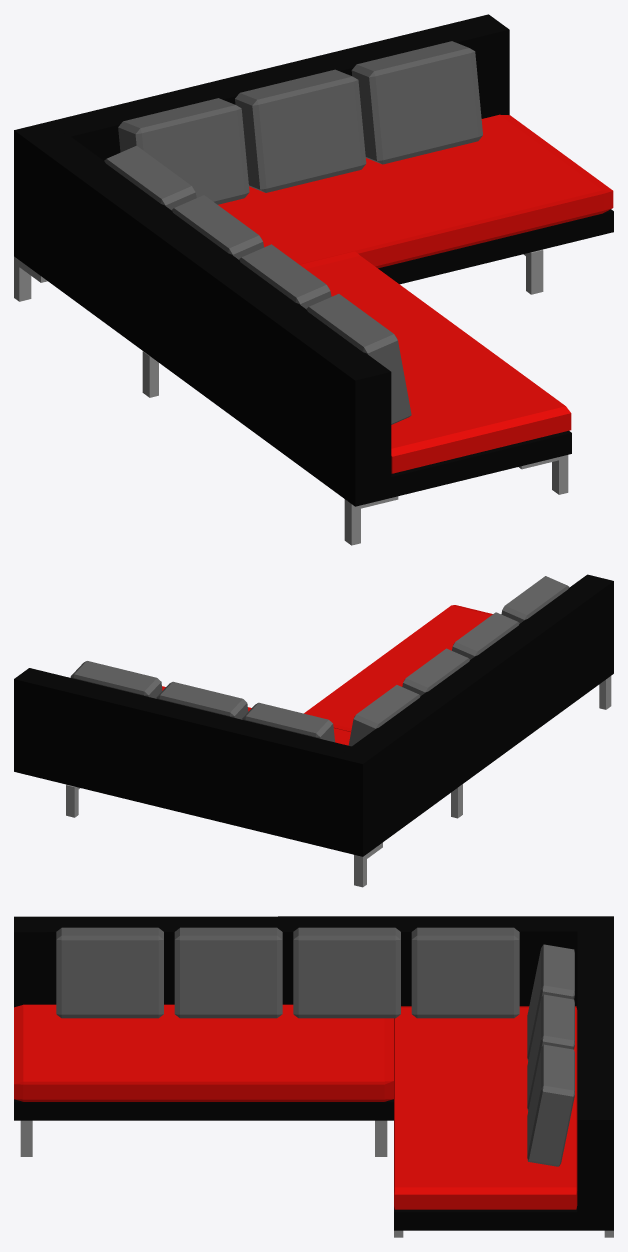
File: canapeAngle.fbx
3 views of the same model, one above another, from view 1: azimuth 30°, elevation 25°; view 2: azimuth 150°, elevation 25°; view 3: azimuth 270°, elevation 25° (orthographic). The views are drawn at different scales.
Parts seen in each view (by area): view 1: canape1; view 2: canape1; view 3: canape1.
Boxes of the visible parts, x1,y1,x2,y2 form: canape1: (14, 14, 613, 545); canape1: (14, 574, 613, 887); canape1: (14, 916, 613, 1237).
Size of the model in its own units: 788 by 283 by 981.
